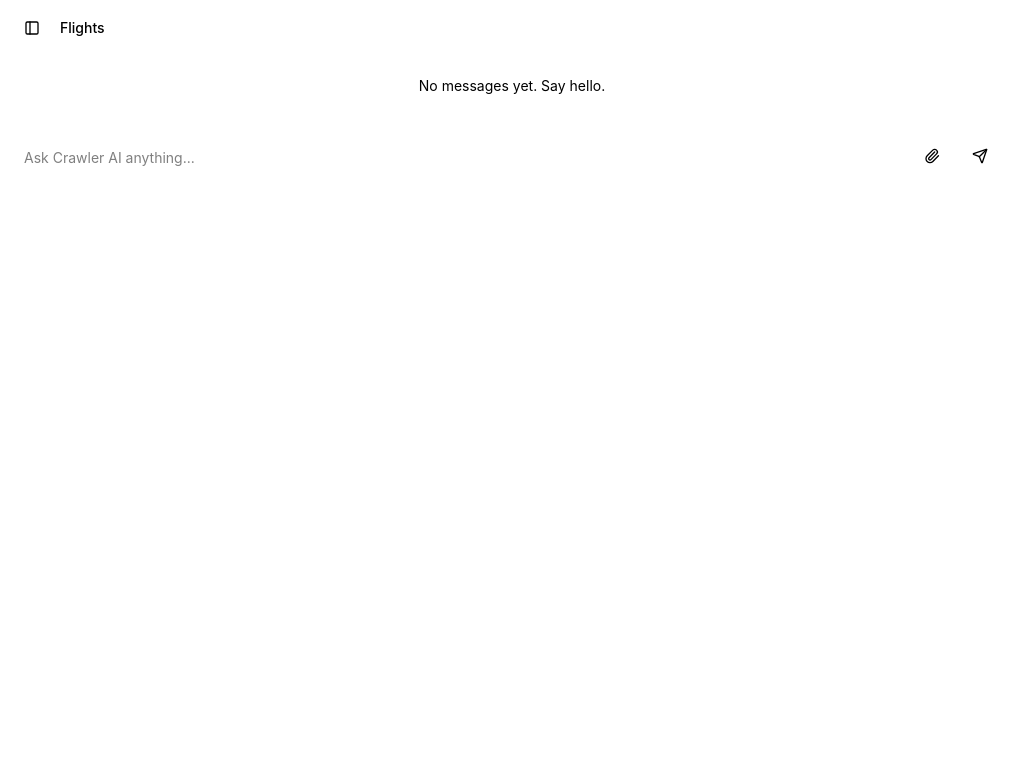
Scenario: Screenshots in the chat › says a screenshot past the reply's limit was not shown, not to ask again
The width and height of the screenshot is (1024, 768).
Type "find flights from JFK to LAX" into the text box named "Message". click: (464, 158)
box: [24,140,904,176]
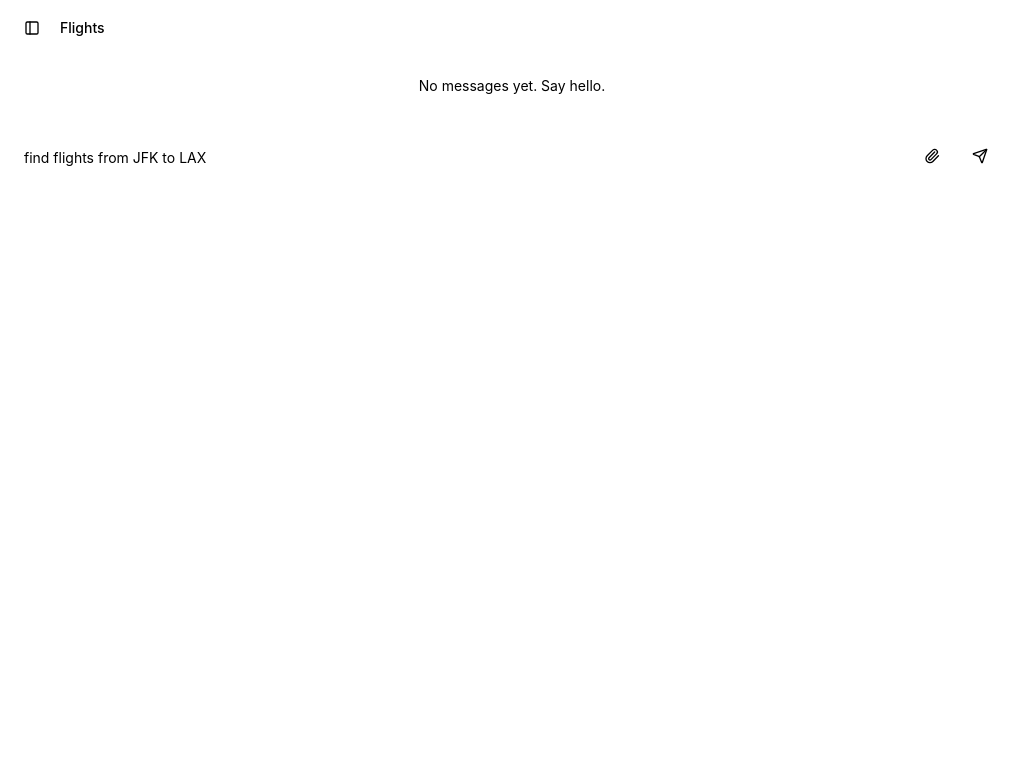
Press Enter in the text box named "Message", box [24,140,904,176]
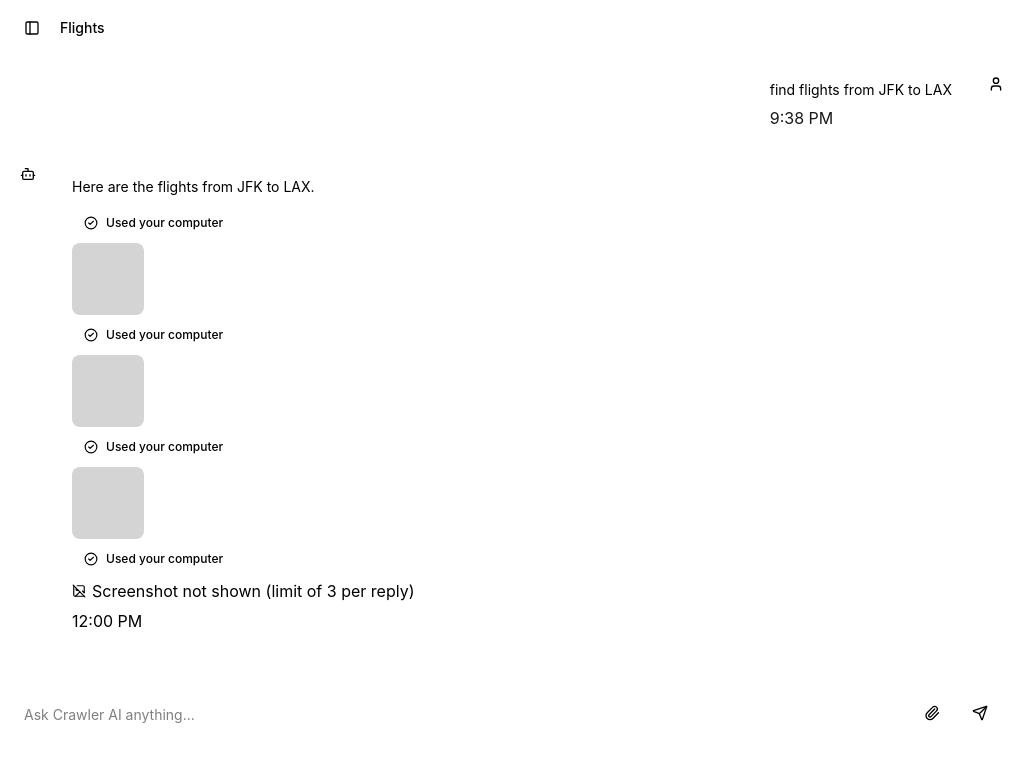
Expected: the text "Screenshot not shown (limit of 3 per reply)" is shown, [72,579,414,603]
